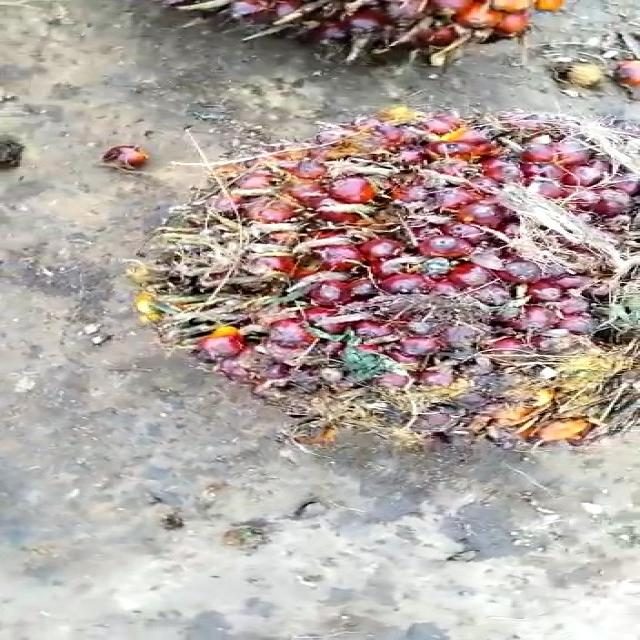palm oil: (121, 119, 640, 462)
